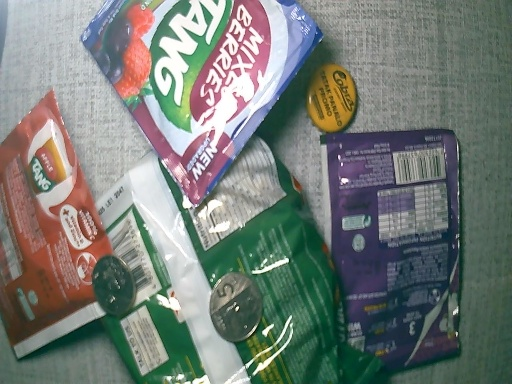metal: (209, 272, 263, 343), (305, 62, 358, 133), (91, 256, 136, 316)
plastic: (101, 128, 376, 384), (84, 1, 307, 203), (320, 132, 461, 362), (1, 89, 92, 362)
